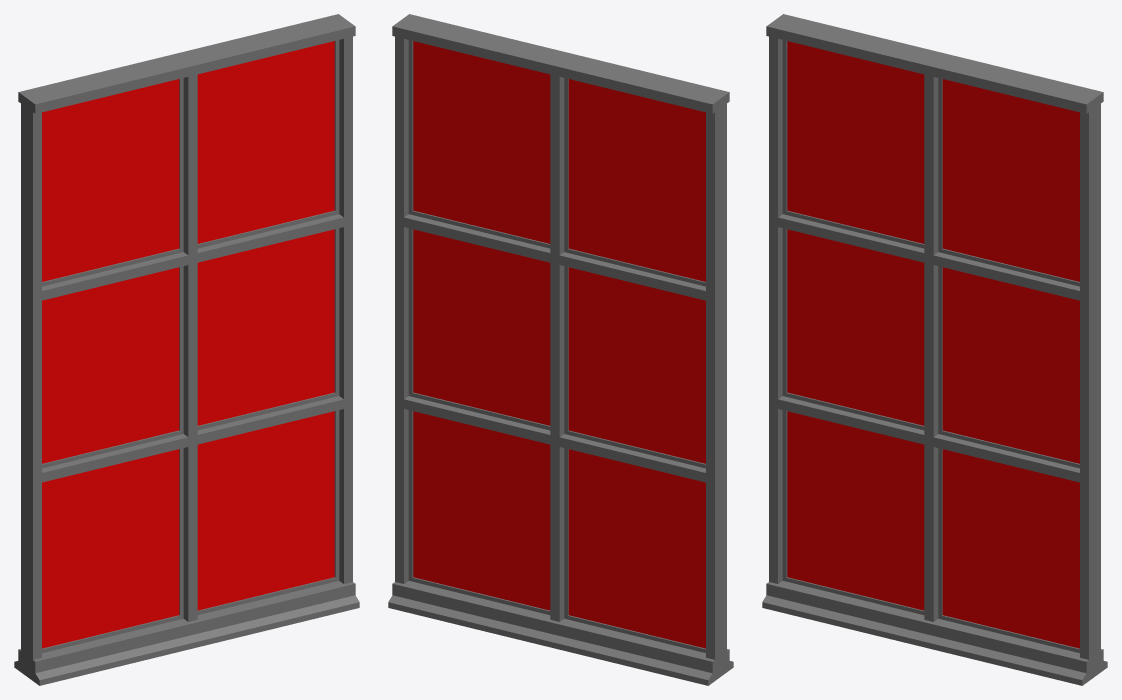
The model's file is Window01.fbx.
3 views of the same model, side by side, from view 1: azimuth 30°, elevation 25°; view 2: azimuth 150°, elevation 25°; view 3: azimuth 330°, elevation 25° (orthographic).
Visible parts, largest first — view 1: Window01; view 2: Window01; view 3: Window01.
Boxes of the visible parts, <box> form: Window01: <box>14,14,359,685</box>; Window01: <box>388,14,733,685</box>; Window01: <box>762,14,1107,685</box>.
Size of the model in its own units: 87.5 by 151 by 12.
